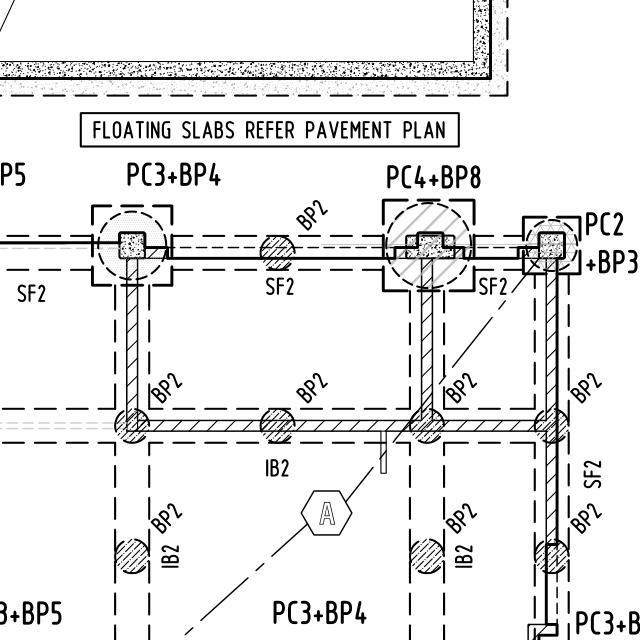BP2: (563, 494, 602, 541), (137, 363, 179, 404), (147, 492, 186, 531), (441, 370, 481, 404), (447, 504, 486, 535), (571, 372, 606, 404), (296, 374, 322, 406)
BP3: (590, 241, 640, 280)
BP4: (179, 149, 228, 192), (320, 592, 369, 631)
BP5: (16, 592, 71, 629)
BP8: (437, 151, 500, 196)
IB2: (257, 451, 296, 482), (449, 537, 479, 576)
PC2: (579, 196, 630, 237)
PC3: (122, 145, 171, 190), (561, 602, 616, 637), (269, 592, 314, 633)
PC4: (369, 151, 426, 190)
SF2: (255, 266, 308, 300), (575, 455, 612, 498), (12, 280, 59, 308), (479, 274, 518, 302)
